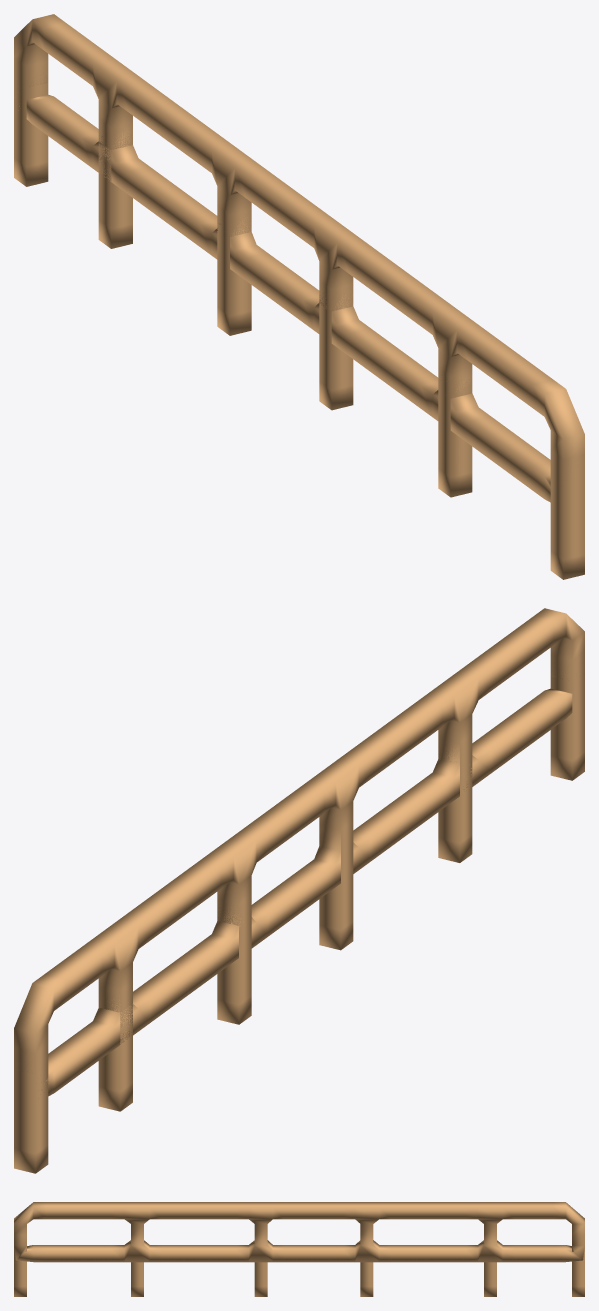
Rendered from rampe.glb.
3 views of the same model, one above another, from view 1: azimuth 30°, elevation 25°; view 2: azimuth 150°, elevation 25°; view 3: azimuth 270°, elevation 25° (orthographic). The views are drawn at different scales.
Visible parts, largest first — view 1: Plane; view 2: Plane; view 3: Plane.
Boxes of the visible parts, bbox=[...] form: Plane: bbox=[14, 14, 584, 579]; Plane: bbox=[14, 608, 584, 1173]; Plane: bbox=[14, 1202, 584, 1296].
Bounding box in the file's own units: 0.0738 × 0.5596 × 3.24.
